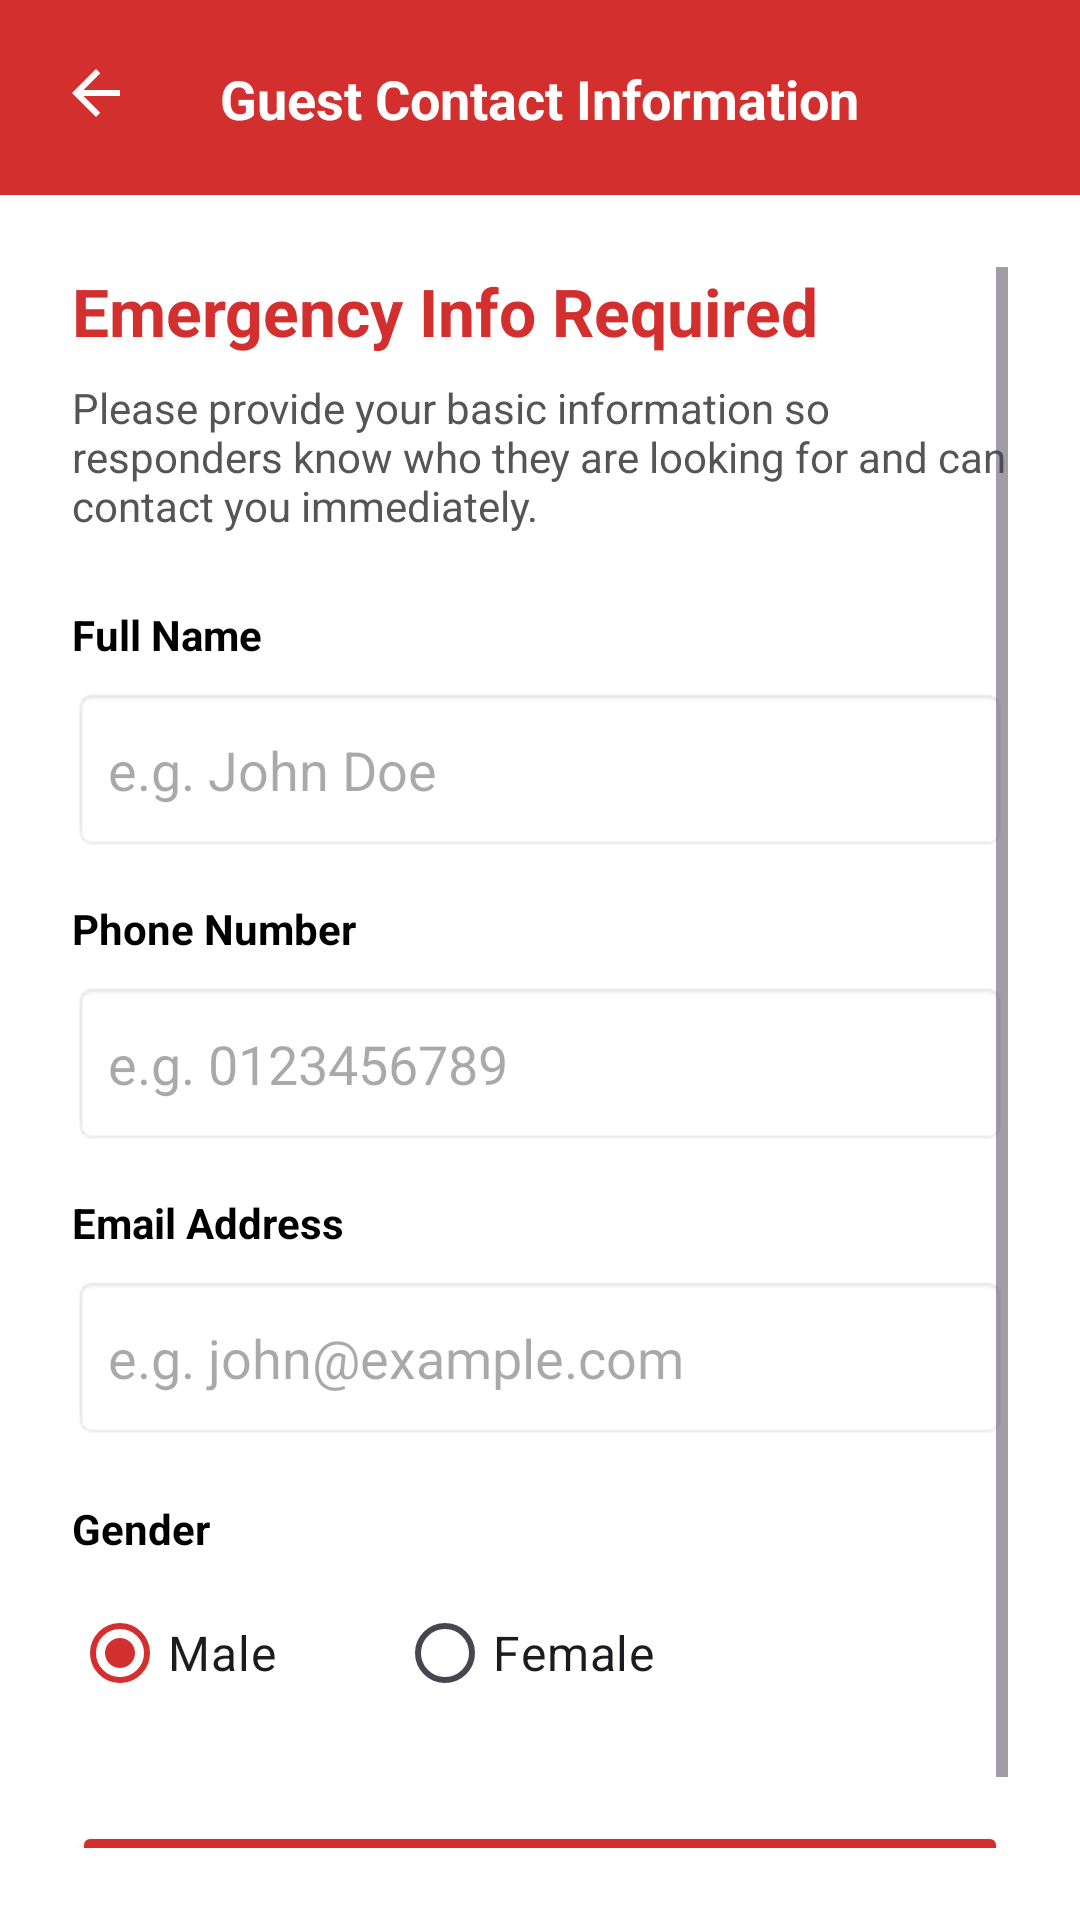

Where icons sit on this 1080 x 1920 app screen, as {"x1": x1, "y1": y1, "x2": x2, "y2": y2}:
back: {"x1": 72, "y1": 69, "x2": 120, "y2": 117}
